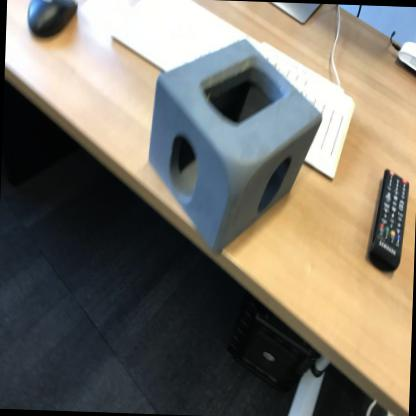CornerCasting: (144, 34, 328, 260)
